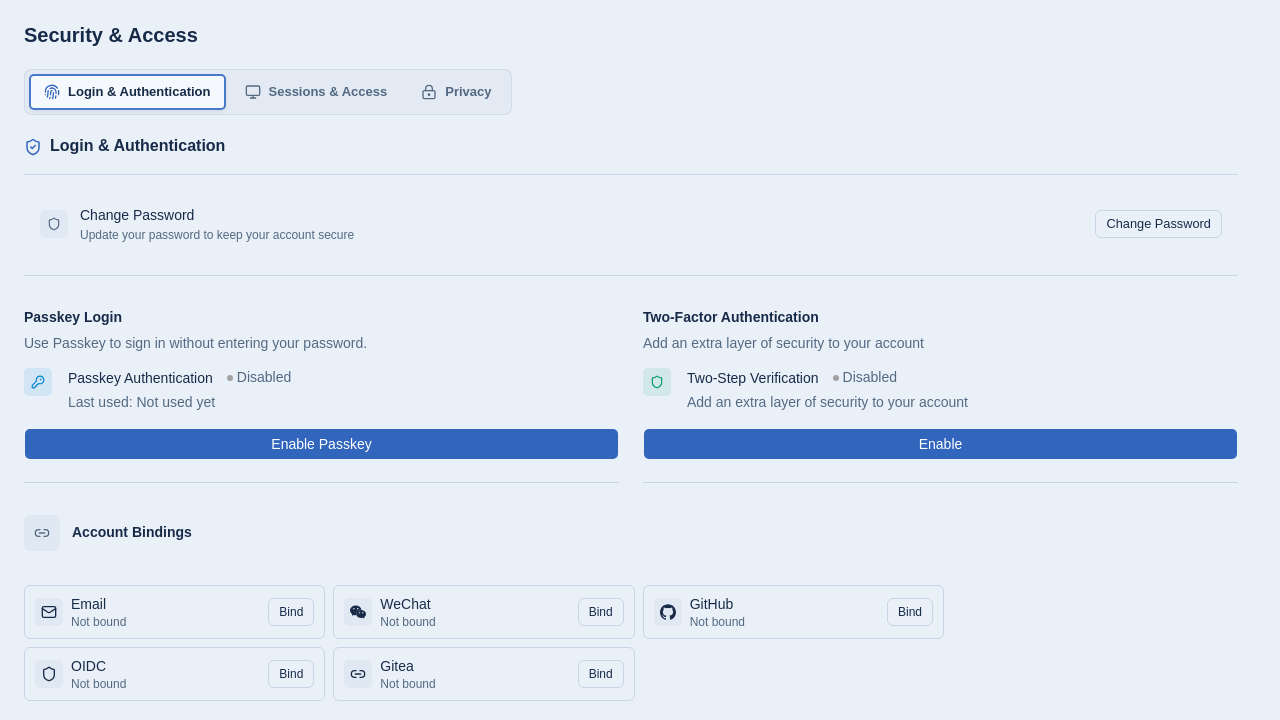
Scenario: security page migration › signal-console tabs separate authentication, sessions and destructive actions with keyboard navigation
Expected: the button "Change Password" is shown, [1095,210,1222,238]
Expected: the button "Delete Account" is not shown
Press Arrowright Enter
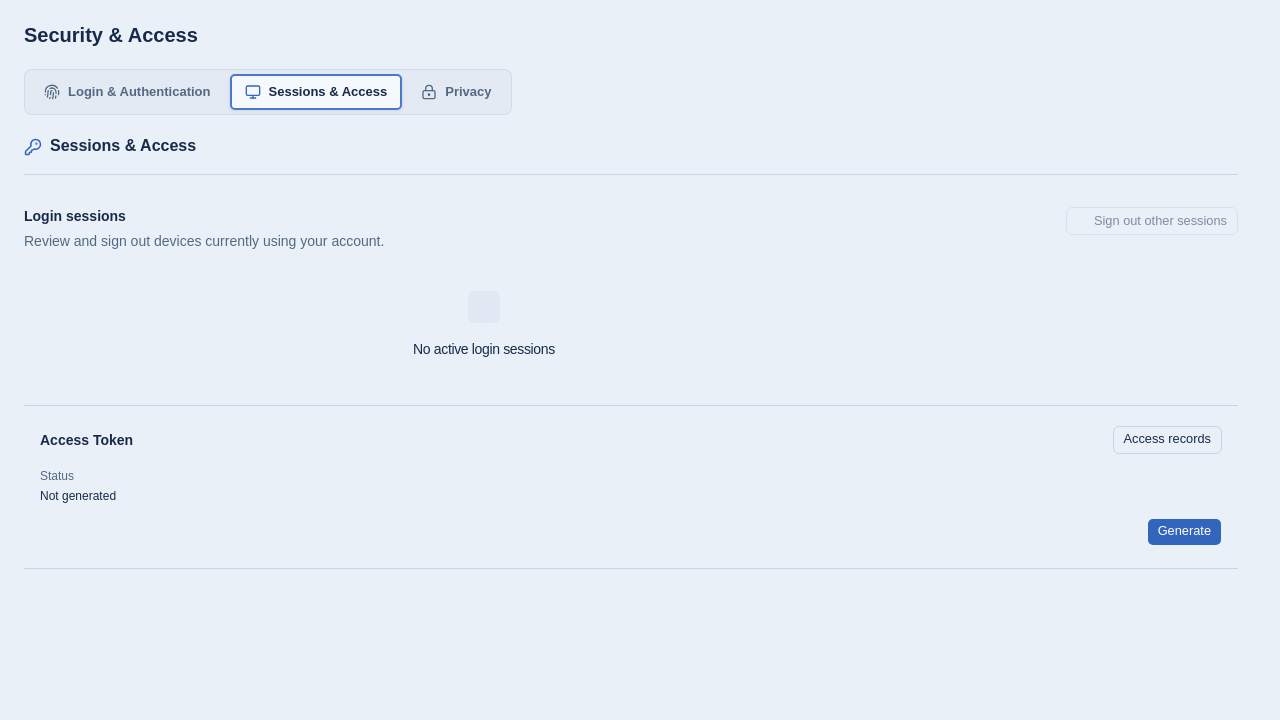
Expected: the text "No active login sessions" is shown, [413,339,555,359]
Click the tab "Privacy".
click(456, 92)  # box [406,74,507,110]
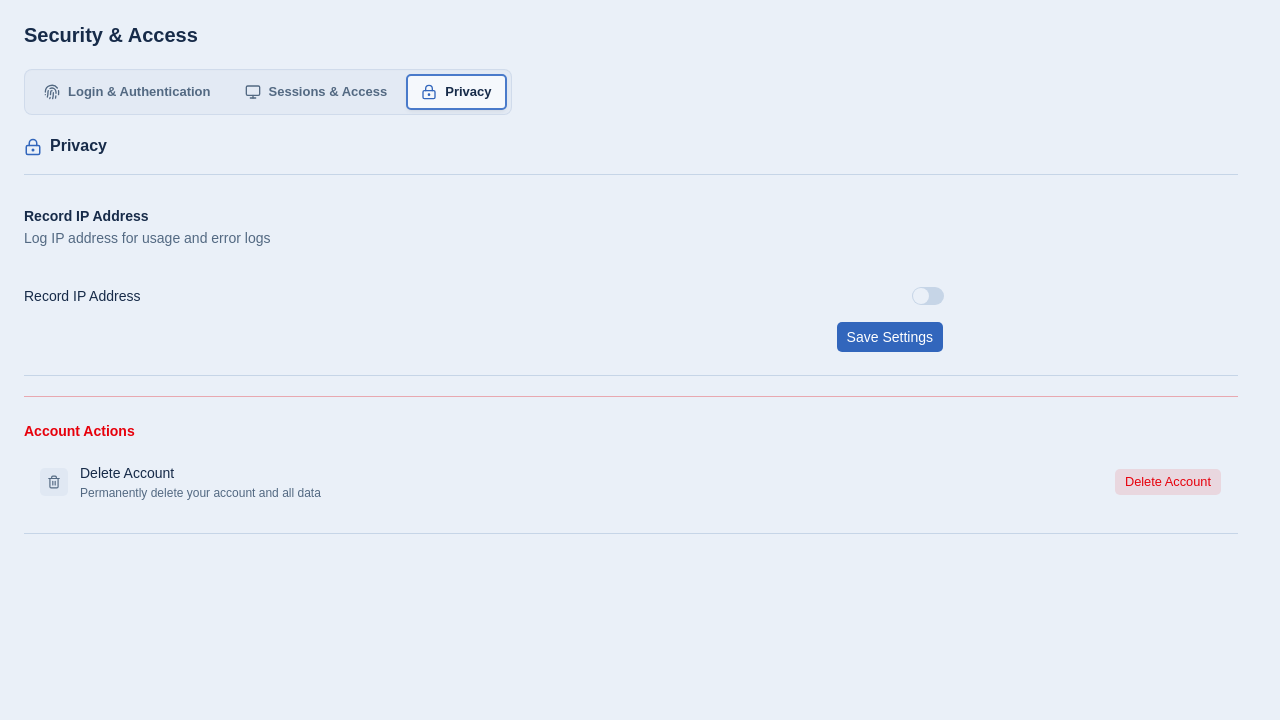
Expected: the text "Change Password" is not shown
Expected: the button "Delete Account" is shown, [1114,468,1222,496]
Expected: the switch named "Record IP Address" is shown, [912,287,944,305]
